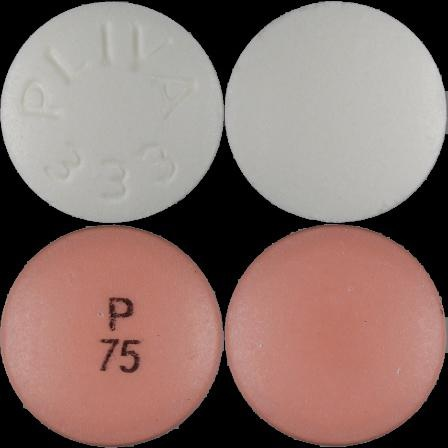52959-400: (0, 0, 224, 224)
